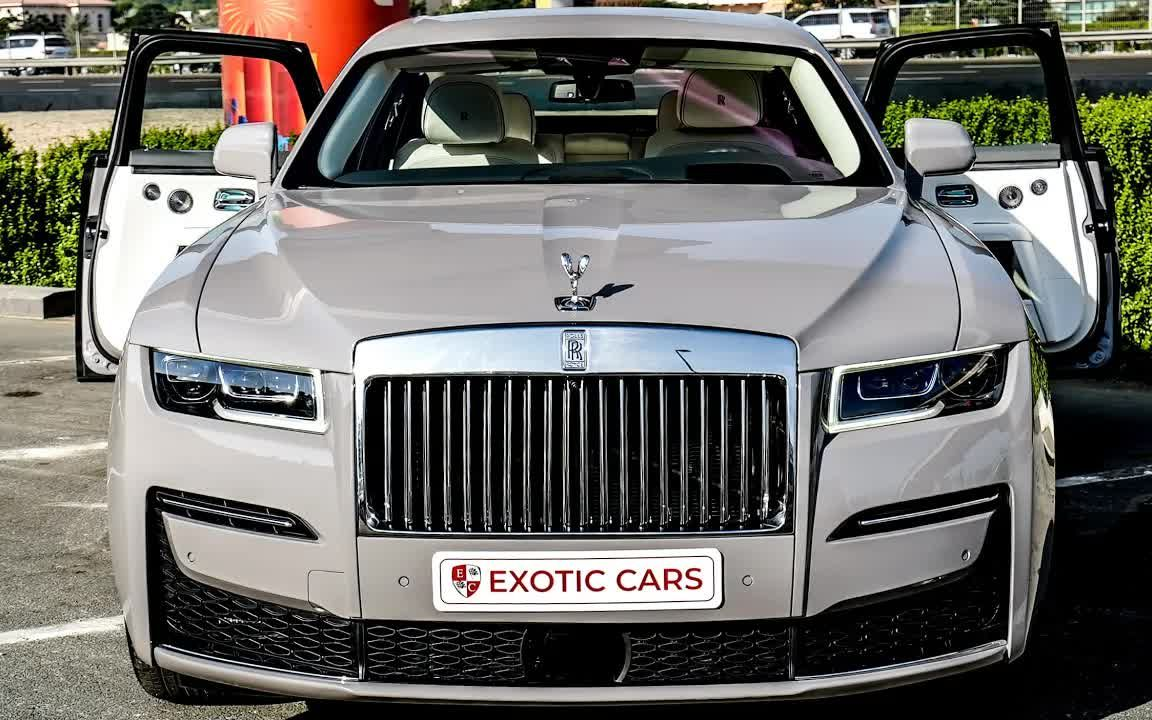other: (105, 7, 1067, 715)
